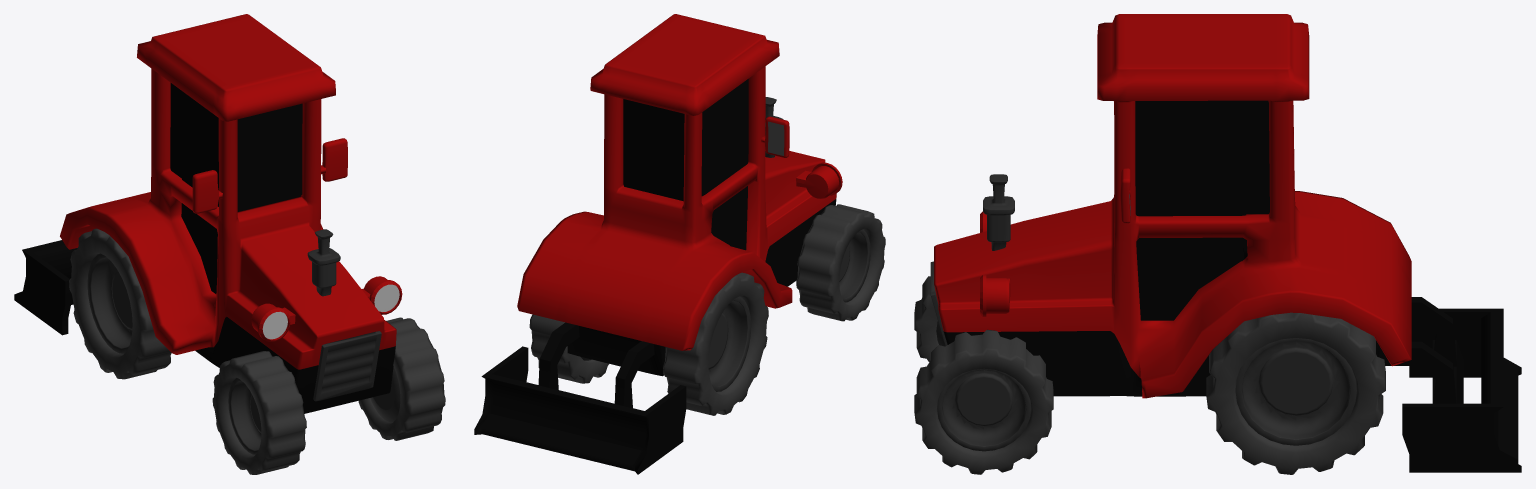
File: tractor2.fbx
The picture shows the model from 3 angles, left to right: view 1: azimuth 30°, elevation 25°; view 2: azimuth 150°, elevation 25°; view 3: azimuth 270°, elevation 25°; orthographic projection. The views are drawn at different scales.
Visible parts, largest first — view 1: tractor2_base, tractor2_glass, tractor2_wheel_outer4, tractor2_wheel_outer2, tractor2_wheel_outer3, tractor2_blade, tractor2_grate, tractor2_wheel__inner2, tractor2_wheel__inner4, tractor2_pump, tractor2_mirror_frame2, tractor2_mirror_frame1 (+5 smaller); view 2: tractor2_base, tractor2_blade, tractor2_glass, tractor2_wheel_outer4, tractor2_wheel_outer2, tractor2_wheel__inner2, tractor2_wheel_outer1, tractor2_wheel__inner4, tractor2_light_frame2, tractor2_mirror_reflective1, tractor2_mirror_frame2; view 3: tractor2_base, tractor2_glass, tractor2_blade, tractor2_wheel_outer1, tractor2_wheel__inner1, tractor2_wheel_outer3, tractor2_wheel__inner3, tractor2_pump, tractor2_wheel_outer4, tractor2_light_frame1.
Part boxes in pixels (<box>): tractor2_base: <box>60,14,396,413</box>; tractor2_glass: <box>170,83,302,293</box>; tractor2_wheel_outer4: <box>212,351,306,474</box>; tractor2_wheel_outer2: <box>69,228,171,379</box>; tractor2_wheel_outer3: <box>358,317,445,440</box>; tractor2_blade: <box>14,240,77,335</box>; tractor2_grate: <box>313,331,381,401</box>; tractor2_wheel__inner2: <box>87,253,132,353</box>; tractor2_wheel__inner4: <box>228,378,261,454</box>; tractor2_pump: <box>307,229,340,296</box>; tractor2_mirror_frame2: <box>192,170,222,213</box>; tractor2_mirror_frame1: <box>321,138,347,181</box>; tractor2_base: <box>517,14,836,376</box>; tractor2_blade: <box>474,322,686,474</box>; tractor2_glass: <box>623,79,748,250</box>; tractor2_wheel_outer4: <box>796,204,885,321</box>; tractor2_wheel_outer2: <box>663,272,768,415</box>; tractor2_wheel__inner2: <box>708,296,751,391</box>; tractor2_wheel_outer1: <box>529,314,608,383</box>; tractor2_wheel__inner4: <box>839,229,870,302</box>; tractor2_light_frame2: <box>796,162,842,198</box>; tractor2_mirror_reflective1: <box>768,121,784,155</box>; tractor2_mirror_frame2: <box>761,116,789,157</box>; tractor2_base: <box>934,14,1411,398</box>; tractor2_glass: <box>1135,100,1269,320</box>; tractor2_blade: <box>1379,297,1521,472</box>; tractor2_wheel_outer1: <box>1206,312,1385,474</box>; tractor2_wheel__inner1: <box>1235,338,1356,445</box>; tractor2_wheel_outer3: <box>914,329,1053,474</box>; tractor2_wheel__inner3: <box>937,368,1030,451</box>; tractor2_pump: <box>983,174,1014,250</box>; tractor2_wheel_outer4: <box>914,276,938,362</box>; tractor2_light_frame1: <box>980,275,1010,317</box>.
Bounding box in the file's own units: 212 × 367 × 523.
